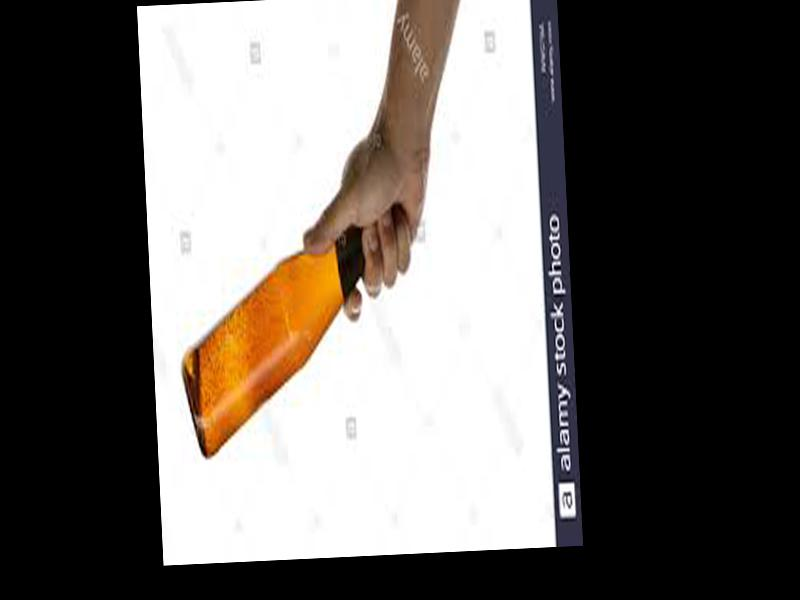Beer: (172, 208, 413, 459)
